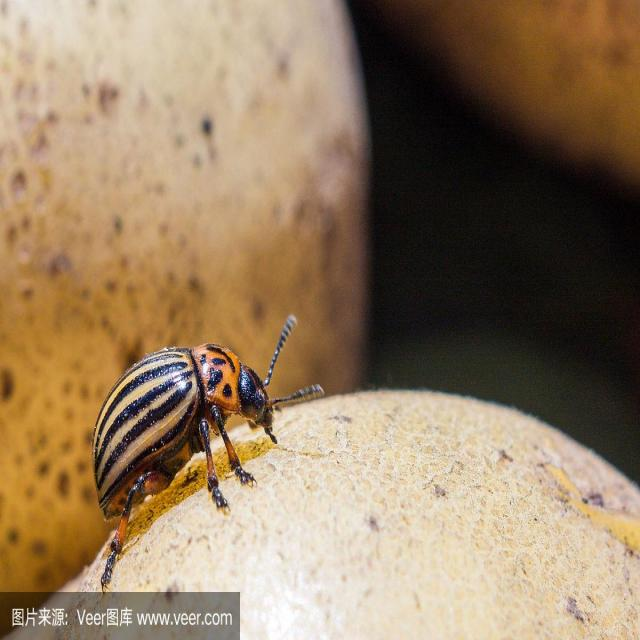ShuCaiHuaBanChong-Grown-: (79, 326, 314, 526)
